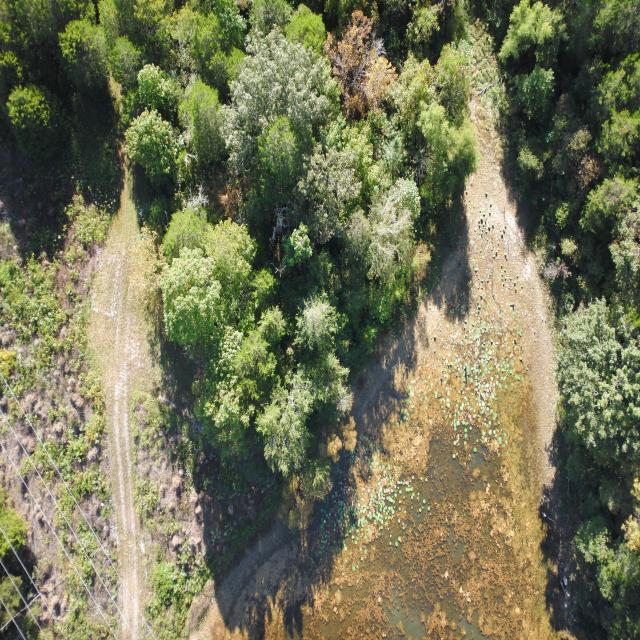Area of Interest: (3, 6, 638, 630)
